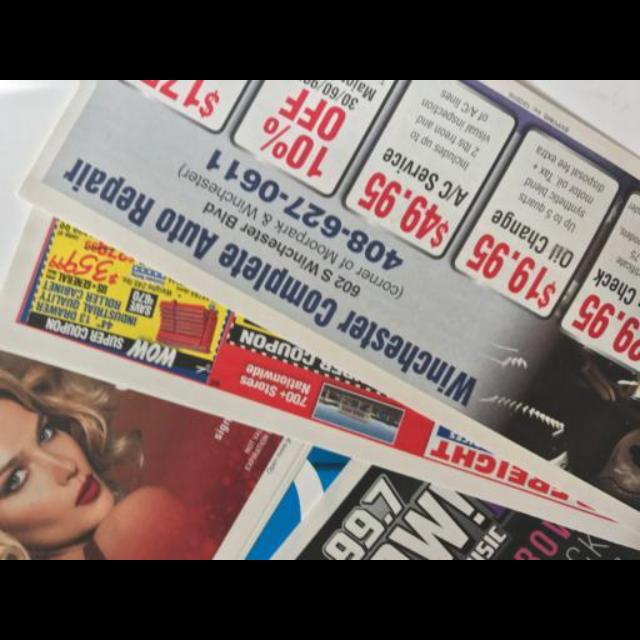papel: (2, 80, 640, 560)
